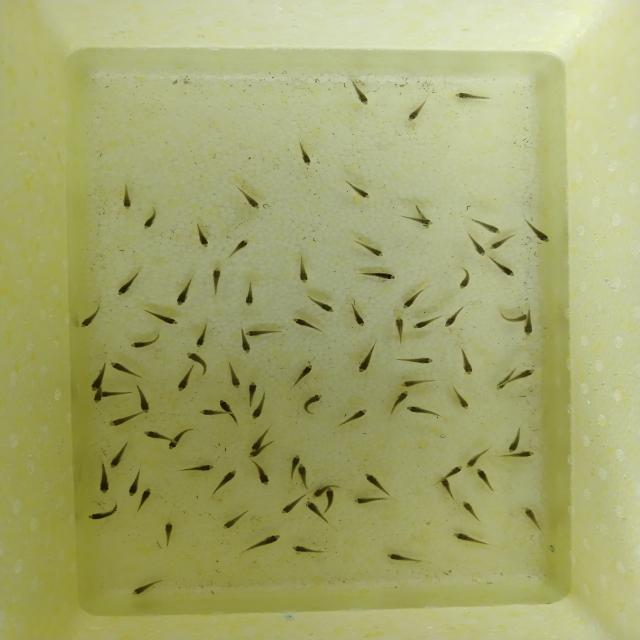fingerling: (338, 175, 374, 202), (355, 338, 381, 374), (114, 268, 144, 298), (243, 531, 285, 552), (108, 360, 150, 380), (232, 184, 262, 211), (518, 504, 545, 534), (168, 426, 200, 451), (141, 306, 180, 326), (334, 407, 369, 429), (132, 382, 156, 414), (448, 530, 488, 549), (347, 78, 373, 107), (77, 304, 106, 330), (221, 507, 253, 530), (87, 501, 121, 522), (294, 139, 317, 170), (289, 361, 315, 388), (177, 458, 216, 476), (127, 331, 162, 351), (401, 285, 429, 310), (109, 440, 132, 470), (524, 218, 550, 244), (404, 98, 431, 123), (361, 471, 390, 494), (352, 238, 385, 258), (455, 343, 476, 374), (358, 267, 398, 283), (191, 221, 213, 250), (173, 277, 194, 307), (292, 316, 327, 334), (131, 578, 164, 597), (301, 391, 326, 416), (449, 385, 473, 411), (475, 466, 497, 494), (489, 256, 518, 277), (384, 550, 422, 566), (194, 320, 214, 350), (308, 293, 338, 313), (404, 404, 444, 419), (218, 465, 238, 495), (225, 238, 251, 260), (436, 476, 458, 502), (349, 301, 370, 328), (105, 412, 136, 430), (453, 90, 492, 104), (95, 462, 112, 494), (391, 354, 436, 366), (460, 499, 483, 522), (392, 313, 408, 346), (295, 462, 313, 491), (473, 218, 503, 235), (225, 360, 242, 390), (174, 370, 194, 395), (251, 461, 271, 486), (504, 427, 524, 452), (466, 447, 489, 468), (398, 375, 435, 388), (487, 236, 515, 253), (121, 182, 136, 212), (138, 487, 154, 515), (444, 306, 464, 328), (296, 254, 310, 285), (411, 316, 442, 330), (457, 266, 475, 290), (183, 350, 210, 366), (125, 471, 141, 498), (350, 494, 386, 506), (290, 543, 326, 555), (162, 518, 176, 548), (468, 234, 487, 256), (516, 367, 541, 383), (324, 485, 338, 513), (279, 498, 302, 515), (210, 264, 222, 295), (244, 328, 285, 337), (142, 428, 169, 441), (87, 374, 106, 392), (243, 280, 256, 306), (142, 209, 156, 231), (245, 382, 259, 404), (303, 499, 321, 516), (250, 402, 265, 422), (499, 312, 526, 323), (392, 389, 412, 403), (494, 375, 510, 391), (217, 397, 234, 411), (522, 320, 535, 338), (516, 449, 537, 460), (446, 464, 462, 478), (239, 338, 252, 355), (250, 435, 263, 452), (197, 408, 220, 417), (308, 487, 325, 498), (92, 392, 104, 405), (291, 452, 301, 464), (420, 218, 434, 226)
